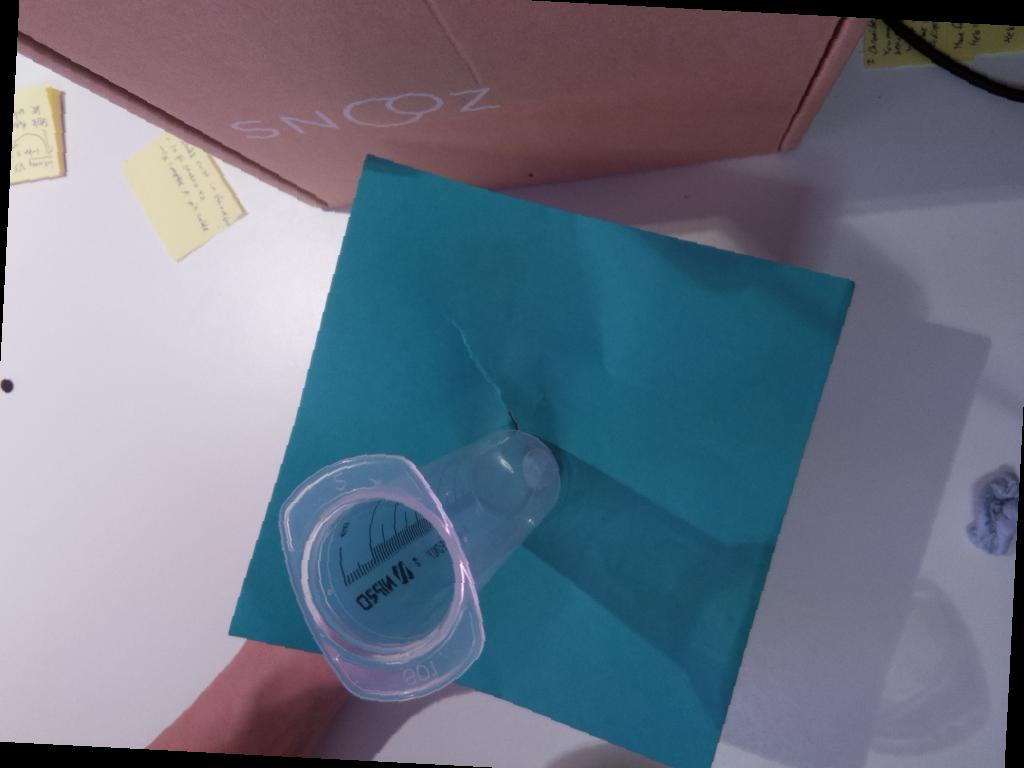clean: (273, 450, 487, 703)
